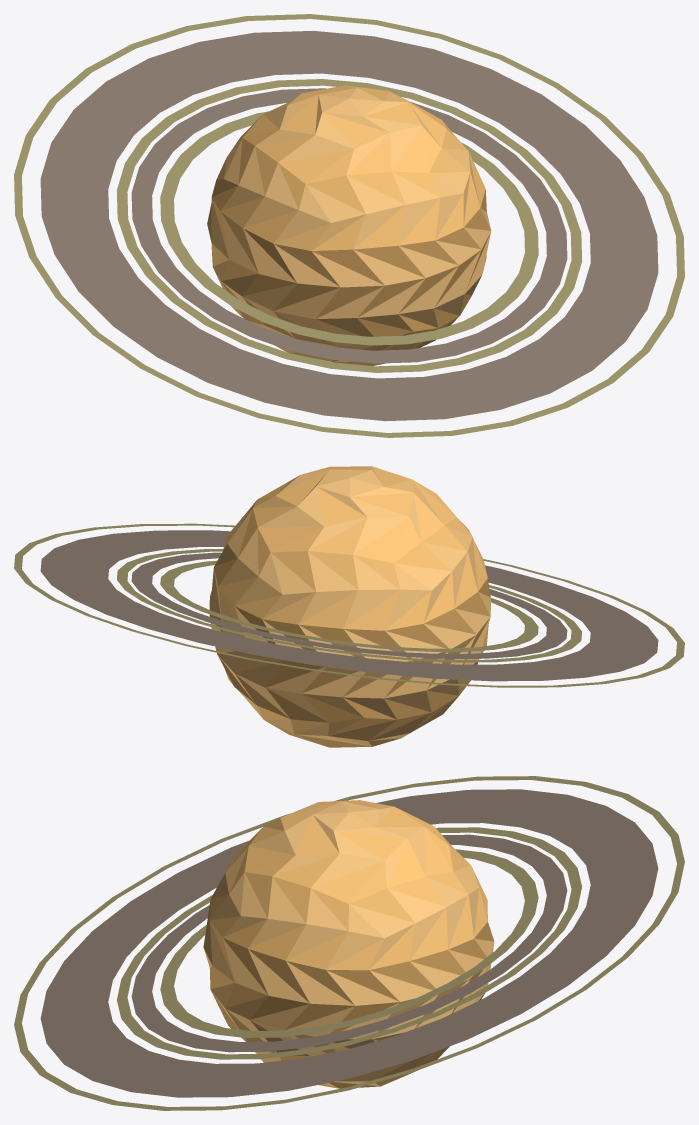
File: Saturn.fbx
3 views of the same model, one above another, from view 1: azimuth 30°, elevation 25°; view 2: azimuth 150°, elevation 25°; view 3: azimuth 270°, elevation 25° (orthographic). The views are drawn at different scales.
Parts seen in each view (by area): view 1: SaturnsRings.001, Saturn.001; view 2: Saturn.001, SaturnsRings.001; view 3: SaturnsRings.001, Saturn.001.
Boxes of the visible parts, x1,y1,x2,y2 form: SaturnsRings.001: (14,14,684,437); Saturn.001: (207,85,491,365); Saturn.001: (209,466,490,747); SaturnsRings.001: (14,523,684,687); SaturnsRings.001: (14,776,684,1110); Saturn.001: (203,800,494,1088).
Size of the model in its own units: 693 by 291 by 669.
